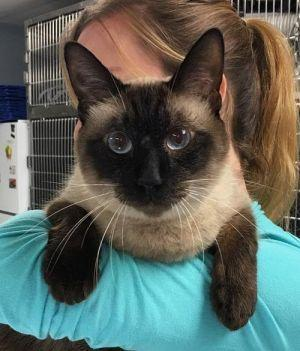siamese: (50, 25, 252, 237)
